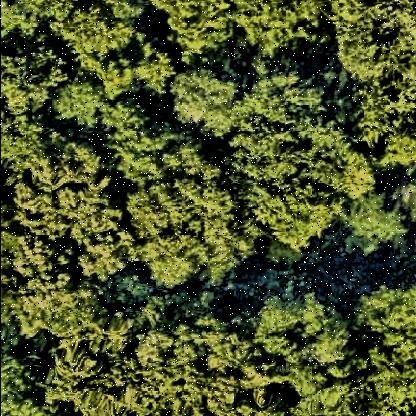tree-top: (125, 156, 254, 289), (22, 154, 136, 279), (255, 288, 361, 416), (133, 315, 247, 416), (46, 324, 136, 416), (357, 285, 416, 416), (235, 79, 317, 171), (235, 1, 335, 70), (339, 1, 415, 89), (169, 66, 249, 142), (256, 180, 336, 254), (55, 1, 139, 67), (158, 1, 245, 62), (3, 42, 69, 117), (92, 49, 178, 98), (102, 100, 162, 162), (352, 190, 408, 245), (1, 113, 51, 171), (3, 350, 45, 416), (61, 77, 105, 131), (1, 1, 48, 46), (384, 134, 416, 174)
